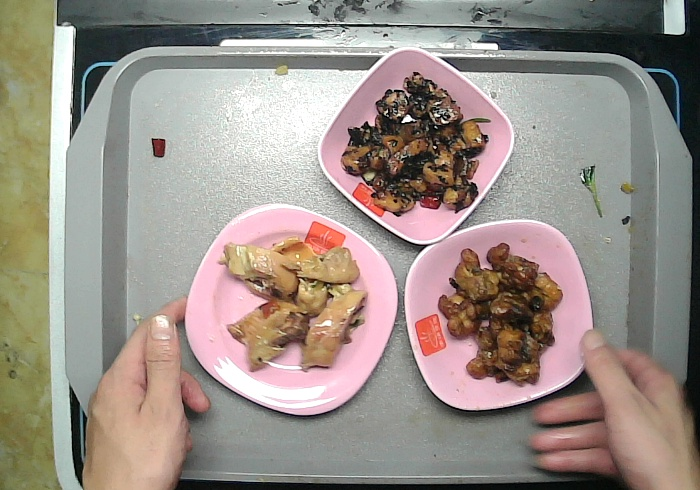SHKJ-Fen_Se_Cai_Die: (404, 219, 593, 409)
SHKJ-Fen_Se_Si_Fang_Cai_Die: (185, 203, 398, 415)
SHKJ-Fen_Se_Xiao_Fang_Die: (317, 47, 514, 244)
